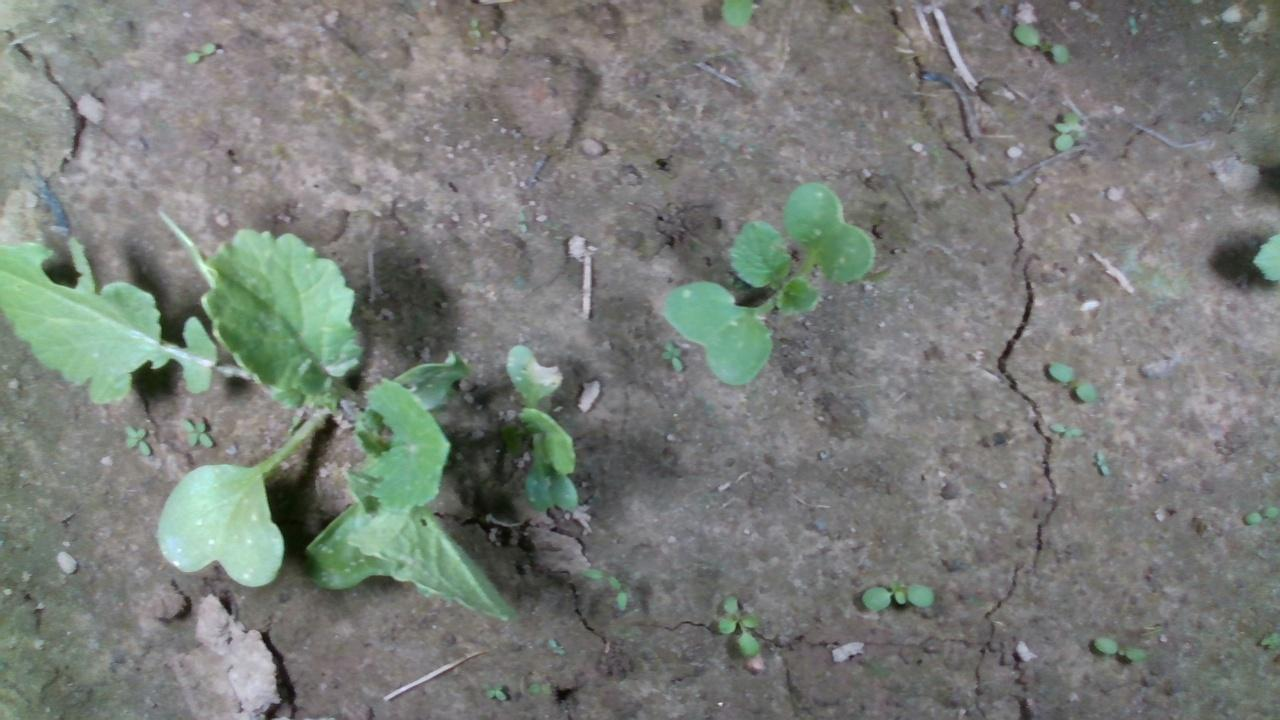weed: (714, 592, 761, 658), (855, 578, 934, 613), (1010, 20, 1070, 66), (1046, 359, 1097, 403), (1090, 633, 1150, 663), (175, 412, 214, 449), (1050, 107, 1080, 151), (120, 422, 151, 458), (659, 339, 684, 373), (181, 40, 215, 63), (1241, 505, 1278, 524), (1090, 447, 1112, 477), (1045, 420, 1083, 437), (481, 685, 507, 701)
